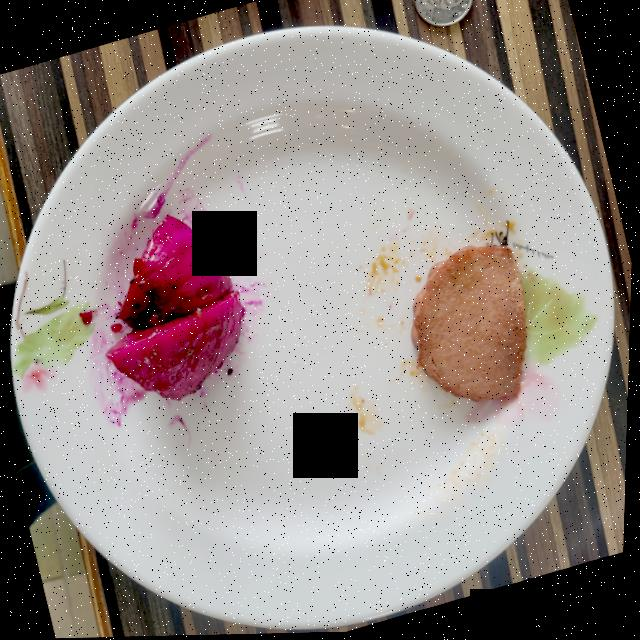Spam: (413, 247, 529, 404)
coin: (414, 0, 472, 28)
